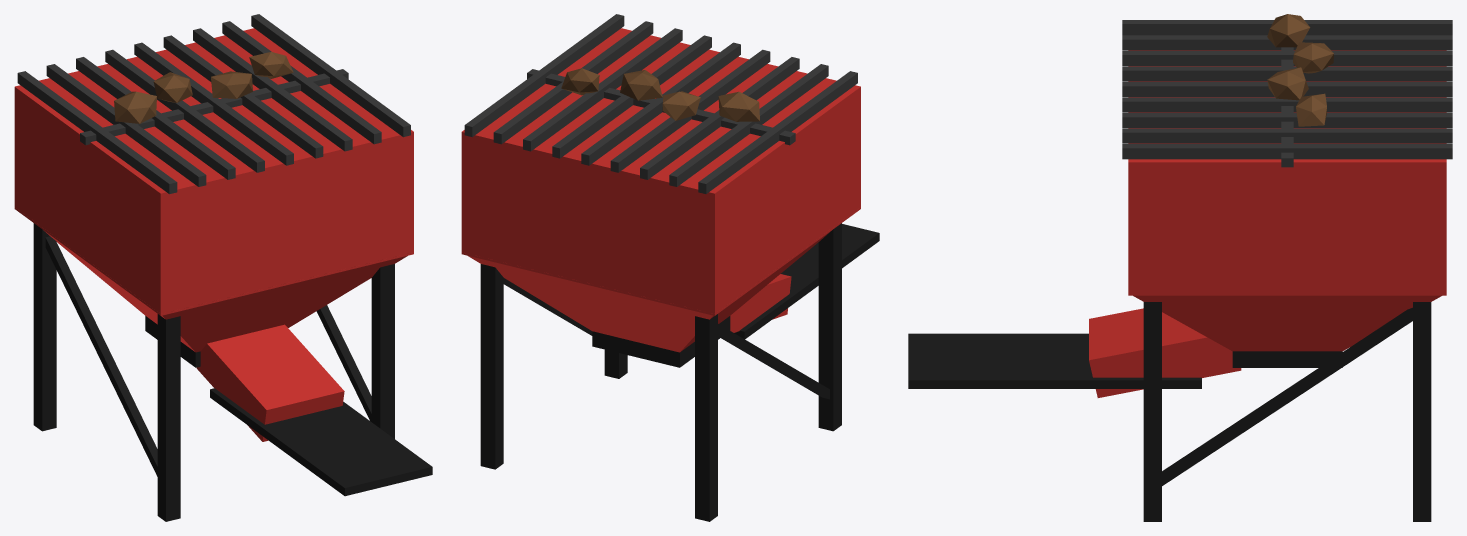
The model's file is Mining_FeedHopper.fbx.
3 views of the same model, side by side, from view 1: azimuth 30°, elevation 25°; view 2: azimuth 150°, elevation 25°; view 3: azimuth 270°, elevation 25° (orthographic). The views are drawn at different scales.
Visible parts, largest first — view 1: Mining_FeedHopper; view 2: Mining_FeedHopper; view 3: Mining_FeedHopper.
Boxes of the visible parts, x1,y1,x2,y2 form: Mining_FeedHopper: (14,14,432,521); Mining_FeedHopper: (461,14,879,521); Mining_FeedHopper: (908,14,1452,521).
Size of the model in its own units: 2.7 by 3.66 by 4.45.
